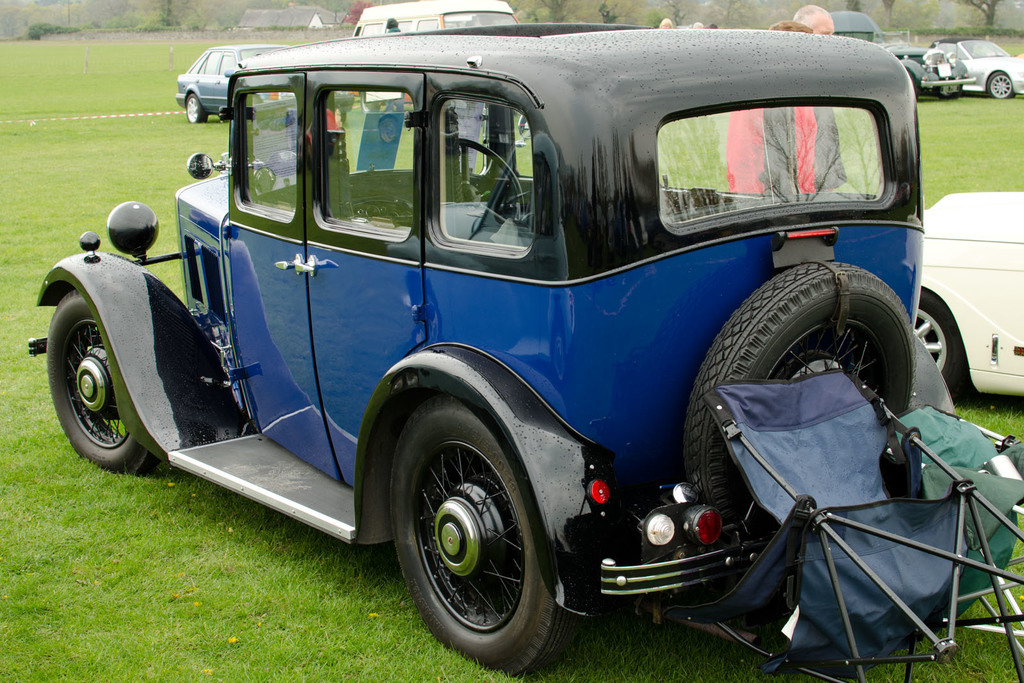Car: (20, 20, 918, 679), (914, 188, 1023, 398), (172, 40, 306, 120), (876, 31, 970, 108), (938, 36, 1023, 99)
